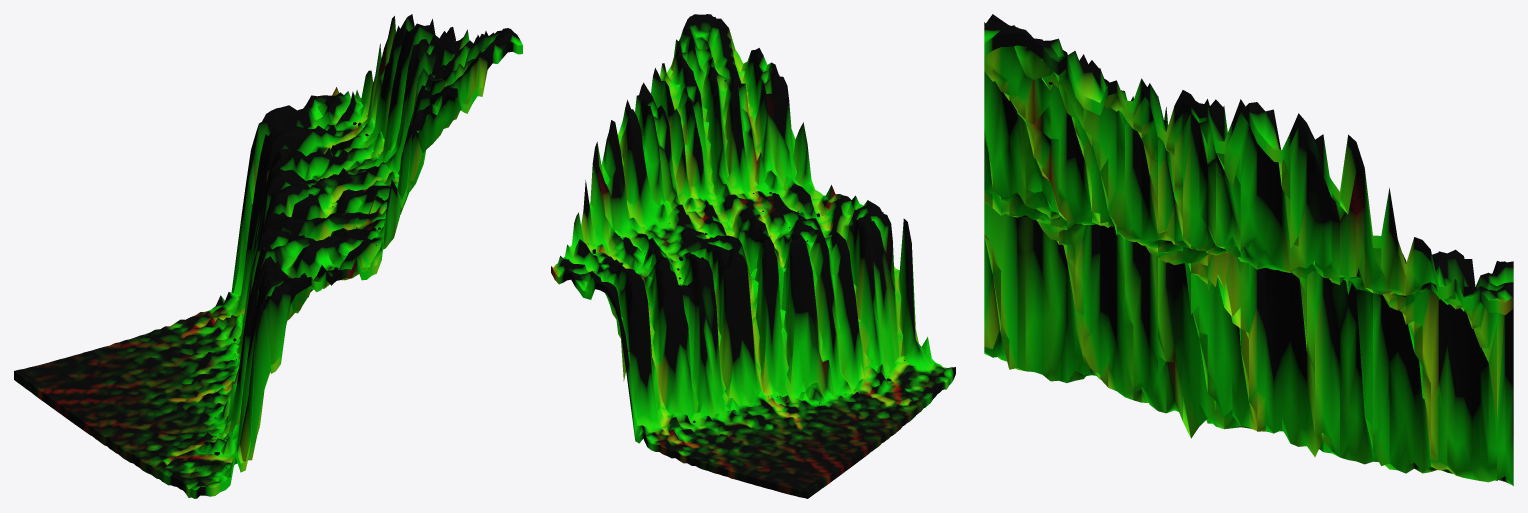
File: Terrain_05_01.fbx
3 renders of one model, left to right at view 1: azimuth 30°, elevation 25°; view 2: azimuth 150°, elevation 25°; view 3: azimuth 270°, elevation 25°, orthographic. The views are drawn at different scales.
Parts seen in each view (by area): view 1: Terrain_05_01_LOD0; view 2: Terrain_05_01_LOD0; view 3: Terrain_05_01_LOD0.
Part boxes in pixels (box(x1,y1,x2,y2)): Terrain_05_01_LOD0: box(14, 14, 522, 498); Terrain_05_01_LOD0: box(551, 14, 955, 498); Terrain_05_01_LOD0: box(984, 14, 1513, 485).
Size of what is drawn, in the model's own units: 384 by 457 by 384.
